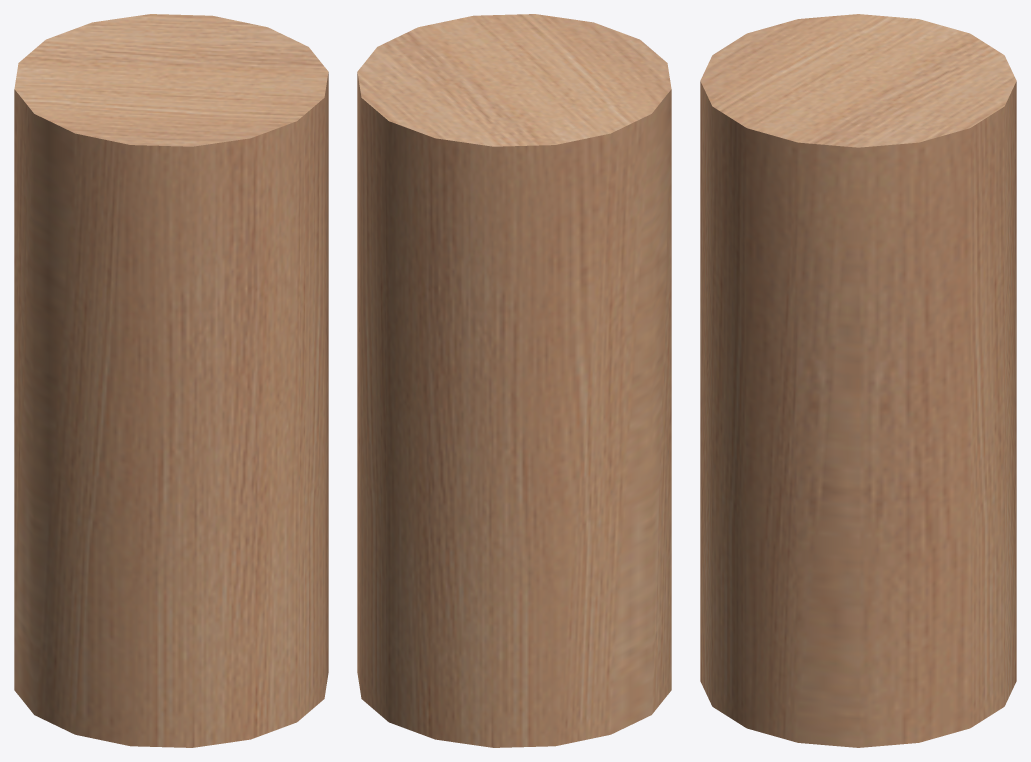
File: Doll_OB_Blocks_017.FBX
3 views of the same model, side by side, from view 1: azimuth 30°, elevation 25°; view 2: azimuth 150°, elevation 25°; view 3: azimuth 270°, elevation 25° (orthographic).
Parts seen in each view (by area): view 1: Doll_OB_Blocks_017; view 2: Doll_OB_Blocks_017; view 3: Doll_OB_Blocks_017.
Boxes of the visible parts, x1,y1,x2,y2 form: Doll_OB_Blocks_017: (14,14,328,747); Doll_OB_Blocks_017: (357,14,671,747); Doll_OB_Blocks_017: (700,14,1016,747).
Bounding box in the file's own units: 3.65 × 7.65 × 3.65.
